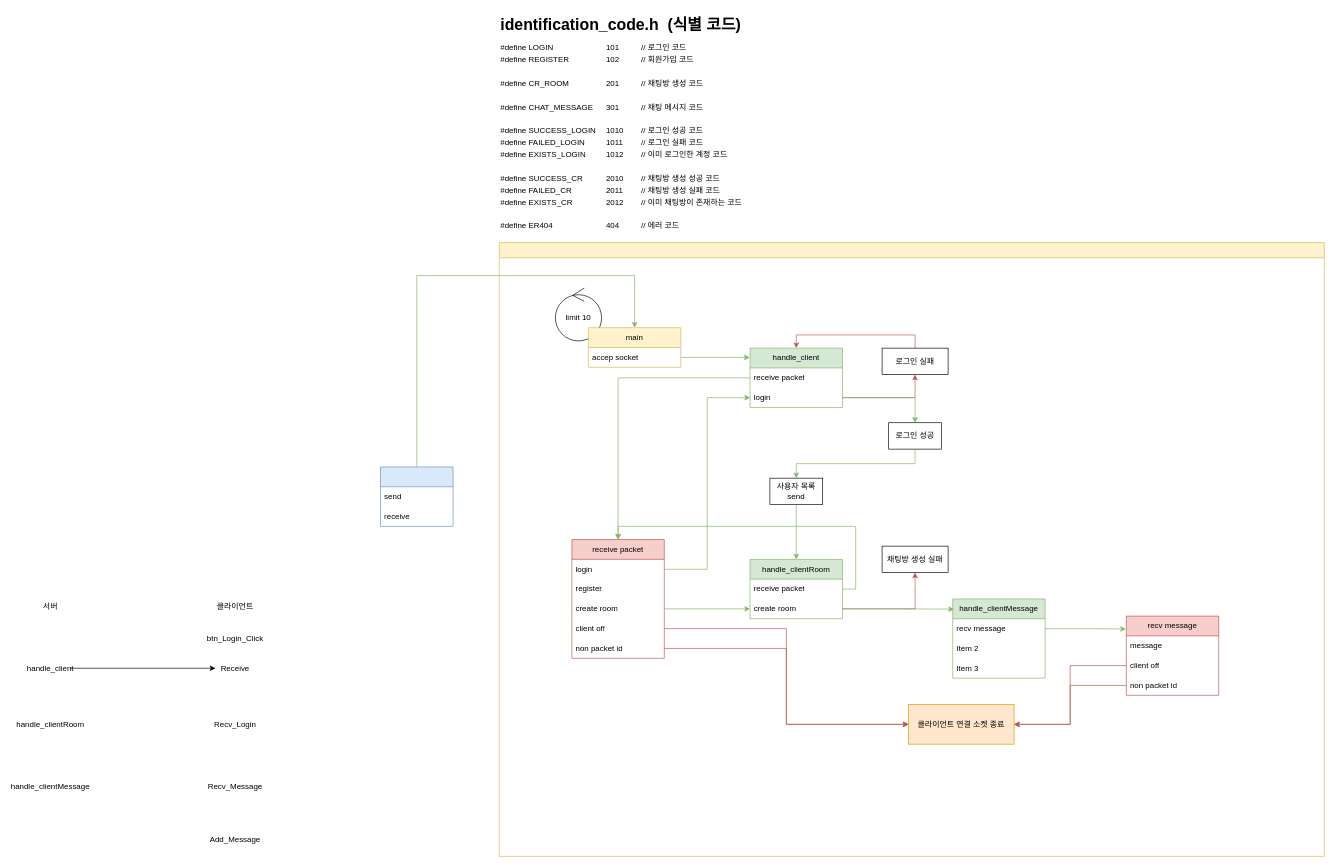
The diagram is 1336 pixels wide and 868 high, and some of its shapes have lost their labels. Each missing label, with the box of its shape:
SERVER: (499, 242, 1324, 856)
클라이언트 소켓: (380, 466, 453, 526)
